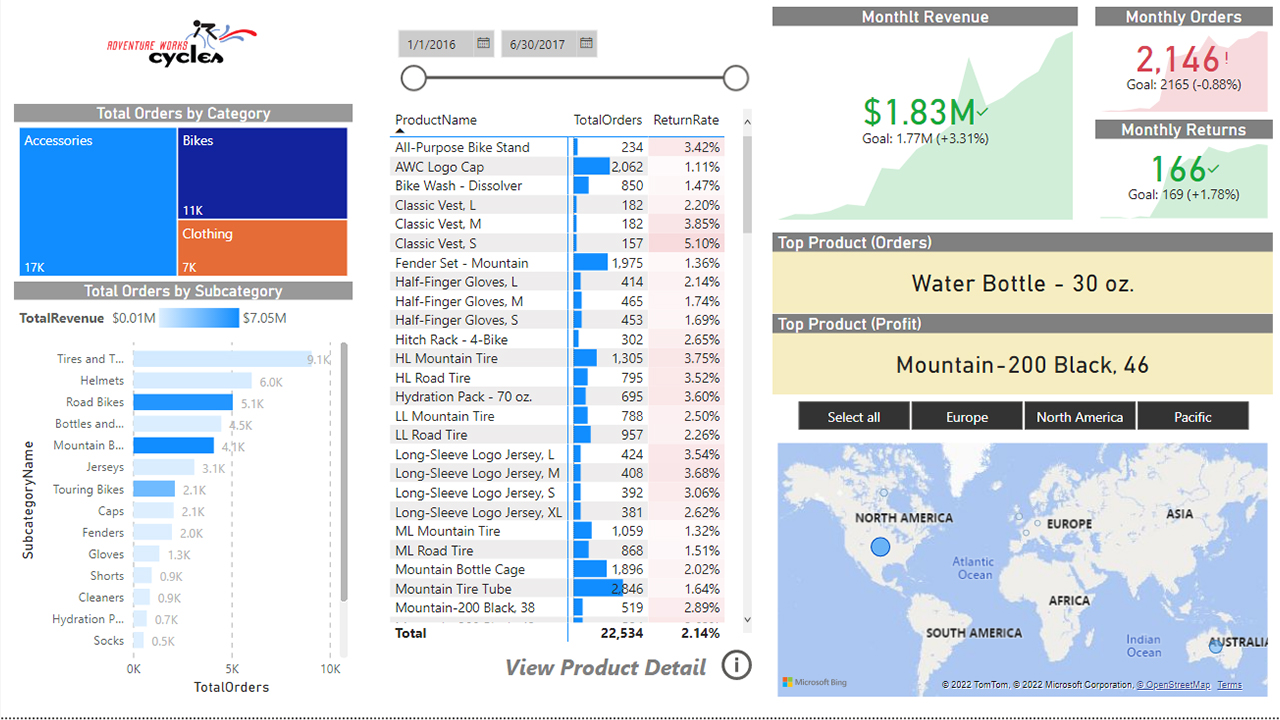

What the dashboard file says about the page in this screenshot:
{"tool":"powerbi","page":{"name":"Executive Summary","canvas":[1280,720],"ordinal":0},"visuals":[{"type":"image","box":[101.1,15.6,160,72.2],"z":0},{"type":"barChart","title":"Total Orders by Subcategory","fields":{"Y":["AW_Sales.TotalOrders"],"Category":["AW_Product_Subcategories_Lookup.SubcategoryName"]},"box":[13.6,287.9,335.6,415.3],"z":1000},{"type":"treemap","title":"Total Orders by Category","fields":{"Group":["AW_Product_Categories_Lookup.CategoryName","AW_Product_Subcategories_Lookup.SubcategoryName"],"Values":["AW_Sales.TotalOrders"]},"box":[13.6,112.2,336,176],"z":2000},{"type":"pivotTable","fields":{"Values":["AW_Sales.TotalOrders","AW_Returns.ReturnRate"],"Rows":["AW_Product_Categories_Lookup.CategoryName","AW_Product_Subcategories_Lookup.SubcategoryName","AW_Product_Lookup.ProductName"]},"box":[381.1,112.2,368.9,537.8],"z":3000},{"type":"slicer","fields":{"Values":["AW_Calendar_Lookup.Date"]},"box":[381.1,27.8,368.9,73.3],"z":4000},{"type":"kpi","title":"Monthlt Revenue","fields":{"Indicator":["AW_Sales.TotalRevenue"],"TrendLine":["AW_Calendar_Lookup.Start of Month"],"Goal":["AW_Sales.PrevMonthRevenue"]},"box":[765.6,15.6,303.3,215.6],"z":5000},{"type":"kpi","title":"Monthly Orders","fields":{"TrendLine":["AW_Calendar_Lookup.Start of Month"],"Goal":["AW_Sales.PrevMonthOrders"],"Indicator":["AW_Sales.TotalOrders"]},"box":[1085.6,15.6,175.6,108.9],"z":6000},{"type":"kpi","title":"Monthly Returns","fields":{"TrendLine":["AW_Calendar_Lookup.Start of Month"],"Goal":["AW_Returns.PrevMonthReturns"],"Indicator":["AW_Returns.TotalReturns"]},"box":[1085.6,127.8,175.6,103.3],"z":7000},{"type":"card","title":"Top Product (Orders)","fields":{"Values":["Min(AW_Product_Lookup.ProductName)"]},"box":[765.6,238.9,495.6,80],"z":8000},{"type":"card","title":"Top Product (Profit)","fields":{"Values":["Min(AW_Product_Lookup.ProductName)"]},"box":[765.6,320,495.6,80],"z":9000},{"type":"map","fields":{"Category":["AW_Territories_Lookup.Country"],"Size":["AW_Sales.TotalOrders"]},"box":[765.6,442.2,495.6,262.2],"z":10000},{"type":"slicer","fields":{"Values":["AW_Territories_Lookup.Continent"]},"box":[765.6,400,495.6,42.2],"z":11000},{"type":"textbox","box":[488.9,650,221.1,37.8],"z":12000},{"type":"actionButton","box":[710,647.8,40,40],"z":13000}]}

Visuals, with their boxes in screenshot pixels (x1, y1, x2, y2), scaled from the page's 1280x720 canvas onto the 1280x720 screenshot:
image: l=101, t=16, r=261, b=88
"Total Orders by Subcategory" barChart: l=14, t=288, r=349, b=703
"Total Orders by Category" treemap: l=14, t=112, r=350, b=288
pivotTable - AW_Sales.TotalOrders x AW_Returns.ReturnRate: l=381, t=112, r=750, b=650
slicer - AW_Calendar_Lookup.Date: l=381, t=28, r=750, b=101
"Monthlt Revenue" kpi: l=766, t=16, r=1069, b=231
"Monthly Orders" kpi: l=1086, t=16, r=1261, b=124
"Monthly Returns" kpi: l=1086, t=128, r=1261, b=231
"Top Product (Orders)" card: l=766, t=239, r=1261, b=319
"Top Product (Profit)" card: l=766, t=320, r=1261, b=400
map - AW_Territories_Lookup.Country x AW_Sales.TotalOrders: l=766, t=442, r=1261, b=704
slicer - AW_Territories_Lookup.Continent: l=766, t=400, r=1261, b=442
textbox: l=489, t=650, r=710, b=688
actionButton: l=710, t=648, r=750, b=688
